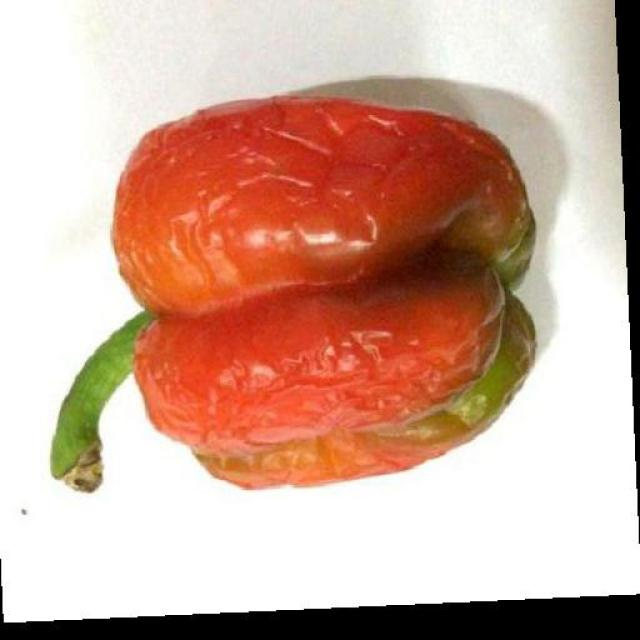Stale_Capsicum: (85, 86, 553, 482)
